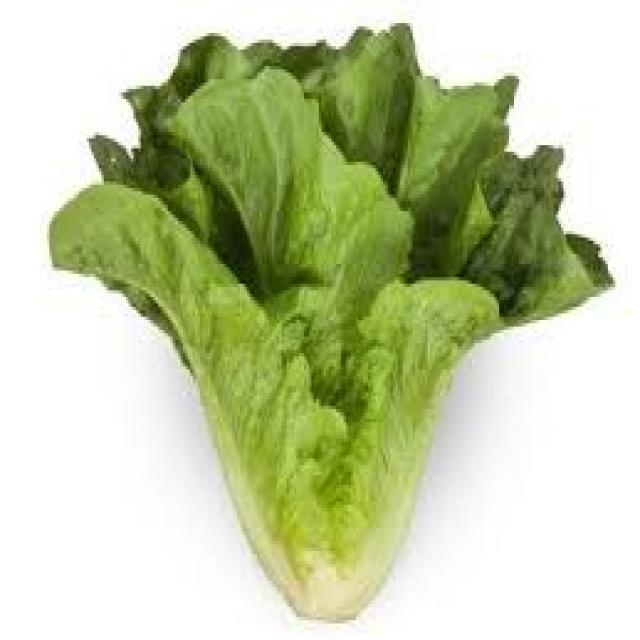organic waste: (42, 20, 610, 617)
